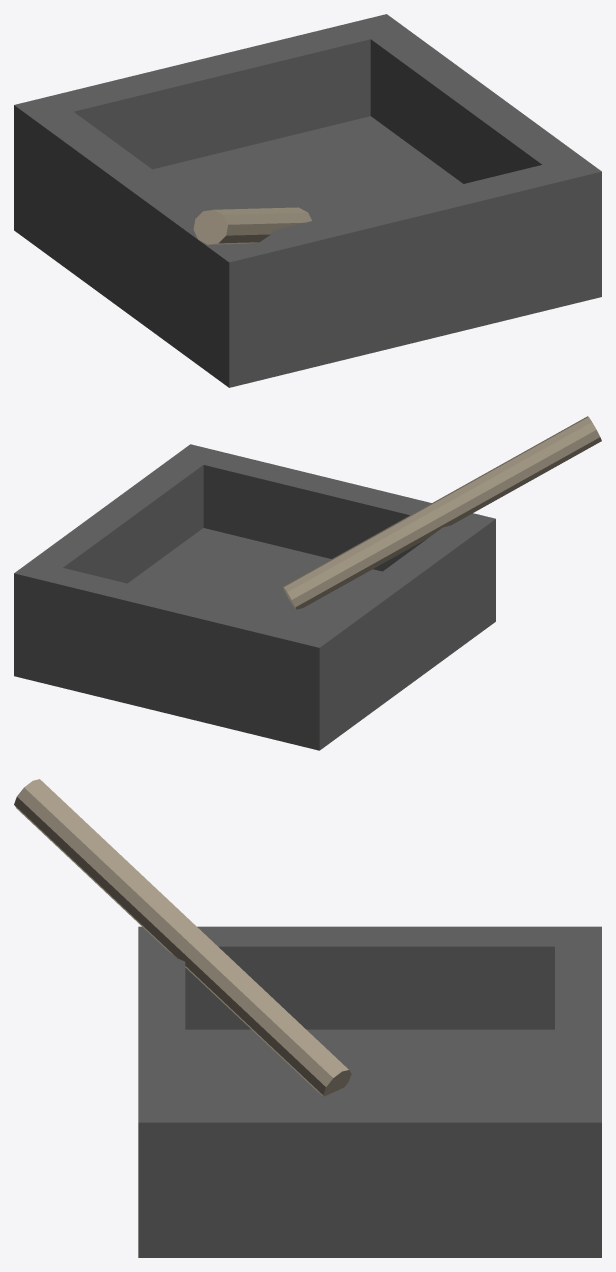
File: Cinzeiro.fbx
3 views of the same model, one above another, from view 1: azimuth 30°, elevation 25°; view 2: azimuth 150°, elevation 25°; view 3: azimuth 270°, elevation 25° (orthographic). The views are drawn at different scales.
Parts seen in each view (by area): view 1: pasted__polySurface1; view 2: pasted__polySurface1; view 3: pasted__polySurface1.
Boxes of the visible parts, <box> form: pasted__polySurface1: <box>14,14,601,387</box>; pasted__polySurface1: <box>14,416,601,750</box>; pasted__polySurface1: <box>14,779,601,1257</box>.
Size of the model in its own units: 1.59 by 0.7699 by 1.66.
